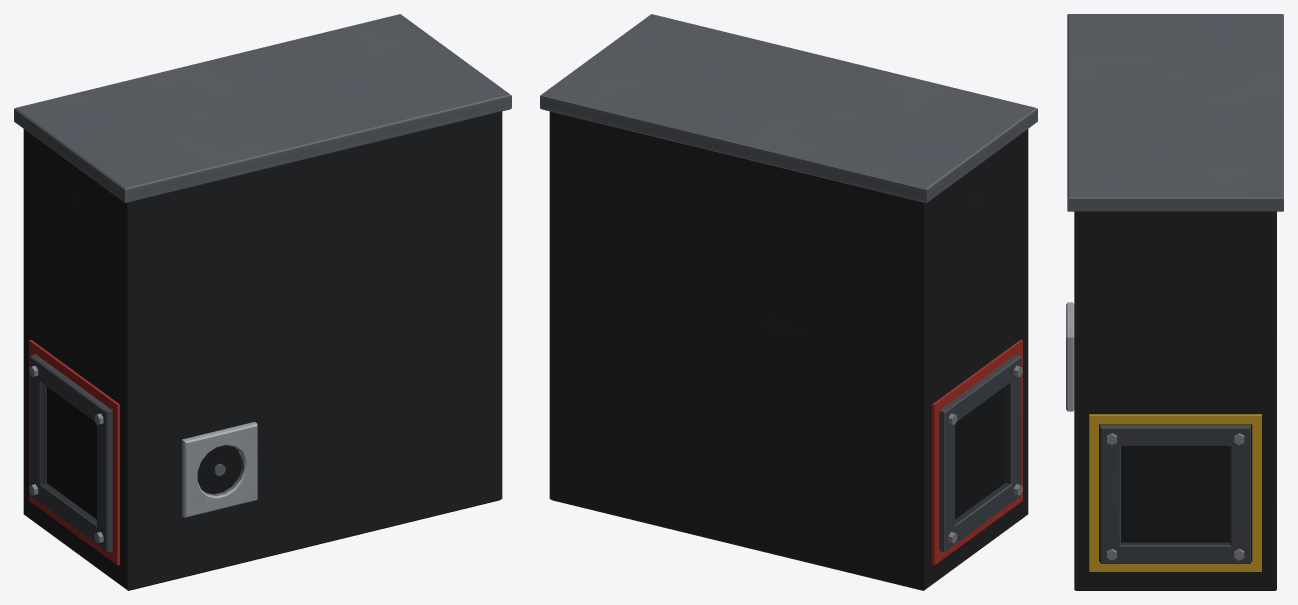
Rendered from body.obj.
3 views of the same model, side by side, from view 1: azimuth 30°, elevation 25°; view 2: azimuth 150°, elevation 25°; view 3: azimuth 270°, elevation 25° (orthographic). The views are drawn at different scales.
Parts seen in each view (by area): view 1: fuel_dispenser_sump__body__udc_box, fuel_dispenser_sump__body__udc_flange, fuel_dispenser_sump__body__gasoline_plate, fuel_dispenser_sump__body__gasoline_throat, fuel_dispenser_sump__body__pport_plate, fuel_dispenser_sump__body__gasoline_frame, fuel_dispenser_sump__body__pport_socket; view 2: fuel_dispenser_sump__body__udc_box, fuel_dispenser_sump__body__udc_flange, fuel_dispenser_sump__body__gasoline_plate, fuel_dispenser_sump__body__gasoline_throat, fuel_dispenser_sump__body__gasoline_frame; view 3: fuel_dispenser_sump__body__udc_box, fuel_dispenser_sump__body__udc_flange, fuel_dispenser_sump__body__diesel_throat, fuel_dispenser_sump__body__diesel_plate, fuel_dispenser_sump__body__diesel_frame, fuel_dispenser_sump__body__pport_plate, fuel_dispenser_sump__body__diesel_studs.
Boxes of the visible parts, x1,y1,x2,y2 form: fuel_dispenser_sump__body__udc_box: (23, 111, 502, 590); fuel_dispenser_sump__body__udc_flange: (14, 14, 511, 203); fuel_dispenser_sump__body__gasoline_plate: (30, 354, 112, 551); fuel_dispenser_sump__body__gasoline_throat: (47, 387, 96, 518); fuel_dispenser_sump__body__pport_plate: (182, 422, 257, 517); fuel_dispenser_sump__body__gasoline_frame: (29, 339, 119, 565); fuel_dispenser_sump__body__pport_socket: (197, 445, 241, 494); fuel_dispenser_sump__body__udc_box: (549, 111, 1028, 590); fuel_dispenser_sump__body__udc_flange: (540, 14, 1037, 203); fuel_dispenser_sump__body__gasoline_plate: (939, 354, 1021, 551); fuel_dispenser_sump__body__gasoline_throat: (955, 387, 1004, 518); fuel_dispenser_sump__body__gasoline_frame: (932, 339, 1022, 565); fuel_dispenser_sump__body__udc_box: (1074, 211, 1276, 590); fuel_dispenser_sump__body__udc_flange: (1067, 14, 1283, 211); fuel_dispenser_sump__body__diesel_throat: (1121, 446, 1230, 542); fuel_dispenser_sump__body__diesel_plate: (1100, 424, 1250, 563); fuel_dispenser_sump__body__diesel_frame: (1089, 414, 1261, 571); fuel_dispenser_sump__body__pport_plate: (1066, 302, 1074, 411); fuel_dispenser_sump__body__diesel_studs: (1107, 433, 1244, 560).
Size of the model in its own units: 2.04 by 2 by 0.9937.
